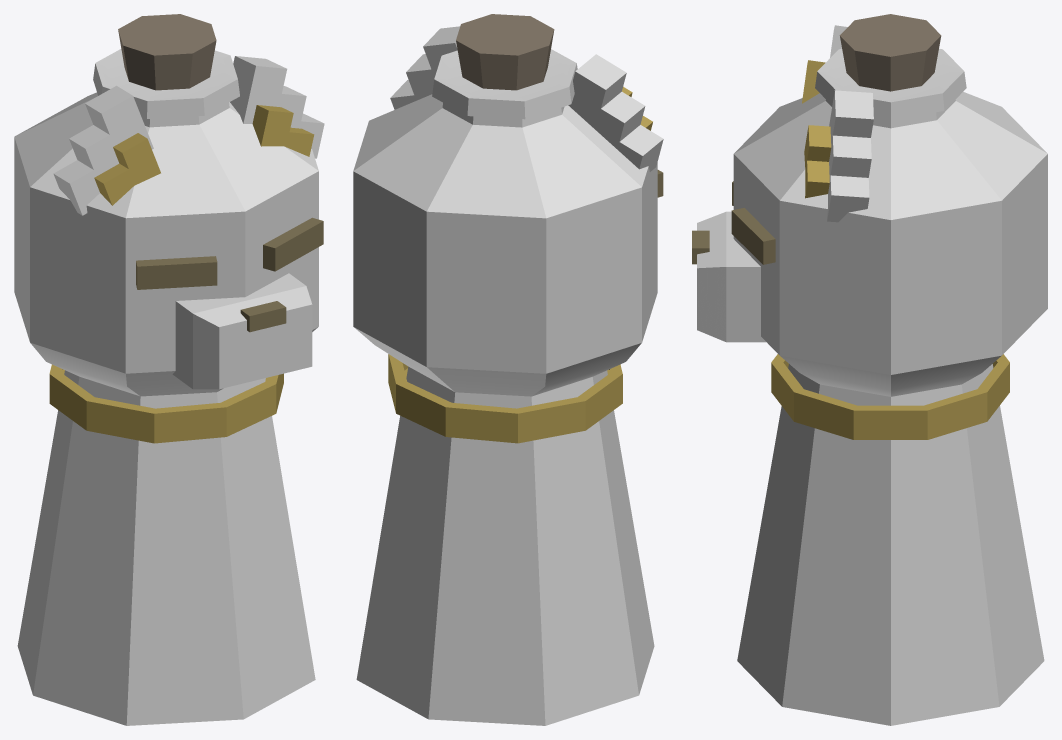
Rendered from poison.fbx.
The picture shows the model from 3 angles, left to right: view 1: azimuth 30°, elevation 25°; view 2: azimuth 150°, elevation 25°; view 3: azimuth 270°, elevation 25°; orthographic projection.
Visible parts, largest first — view 1: pasted__pCylinder20, pCube240, pCylinder22, pCylinder21, pCube336, pCube206, pCube335, pCube238, pCube209, pCube239, pCube241; view 2: pasted__pCylinder20, pCylinder22, pCylinder21, pCube336, pCube206; view 3: pasted__pCylinder20, pCylinder22, pCube240, pCylinder21, pCube206, pCube209, pCube239.
Boxes of the visible parts, bbox=[...] form: pasted__pCylinder20: bbox=[14, 49, 318, 725]; pCube240: bbox=[172, 273, 312, 389]; pCylinder22: bbox=[49, 364, 283, 443]; pCylinder21: bbox=[118, 14, 216, 90]; pCube336: bbox=[53, 85, 153, 215]; pCube206: bbox=[230, 56, 324, 158]; pCube335: bbox=[94, 133, 160, 205]; pCube238: bbox=[136, 256, 217, 289]; pCube209: bbox=[252, 105, 314, 156]; pCube239: bbox=[263, 217, 323, 271]; pCube241: bbox=[240, 301, 286, 332]; pasted__pCylinder20: bbox=[353, 49, 657, 725]; pCylinder22: bbox=[388, 354, 622, 443]; pCylinder21: bbox=[456, 14, 554, 90]; pCube336: bbox=[568, 54, 663, 171]; pCube206: bbox=[390, 26, 459, 109]; pasted__pCylinder20: bbox=[733, 48, 1047, 725]; pCylinder22: bbox=[771, 354, 1009, 439]; pCube240: bbox=[697, 211, 766, 342]; pCylinder21: bbox=[839, 14, 941, 91]; pCube206: bbox=[827, 90, 873, 222]; pCube209: bbox=[804, 125, 831, 198]; pCube239: bbox=[731, 208, 775, 264].
Bounding box in the file's own units: 0.464 × 1.02 × 0.5255.
